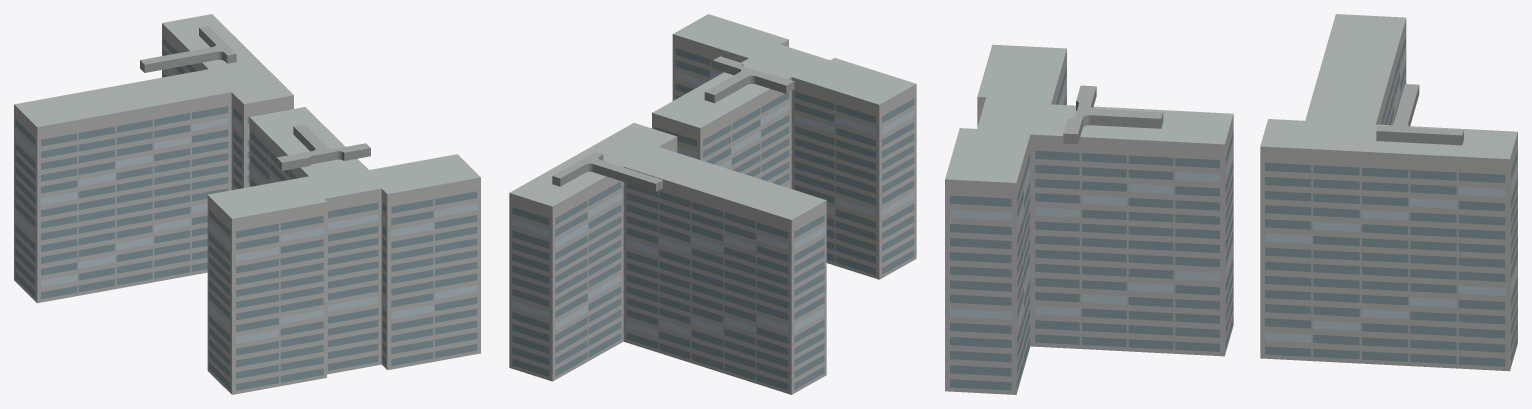
Rendered from apt-a15303502.glb.
The picture shows the model from 3 angles, left to right: view 1: azimuth 30°, elevation 25°; view 2: azimuth 150°, elevation 25°; view 3: azimuth 270°, elevation 25°; orthographic projection. The views are drawn at different scales.
Parts seen in each view (by area): view 1: apt-a15303502; view 2: apt-a15303502; view 3: apt-a15303502.
Part boxes in pixels (<box>): apt-a15303502: <box>14,14,480,394</box>; apt-a15303502: <box>509,14,916,394</box>; apt-a15303502: <box>945,14,1517,394</box>.
Size of the model in its own units: 68.58 by 42 by 98.24.
